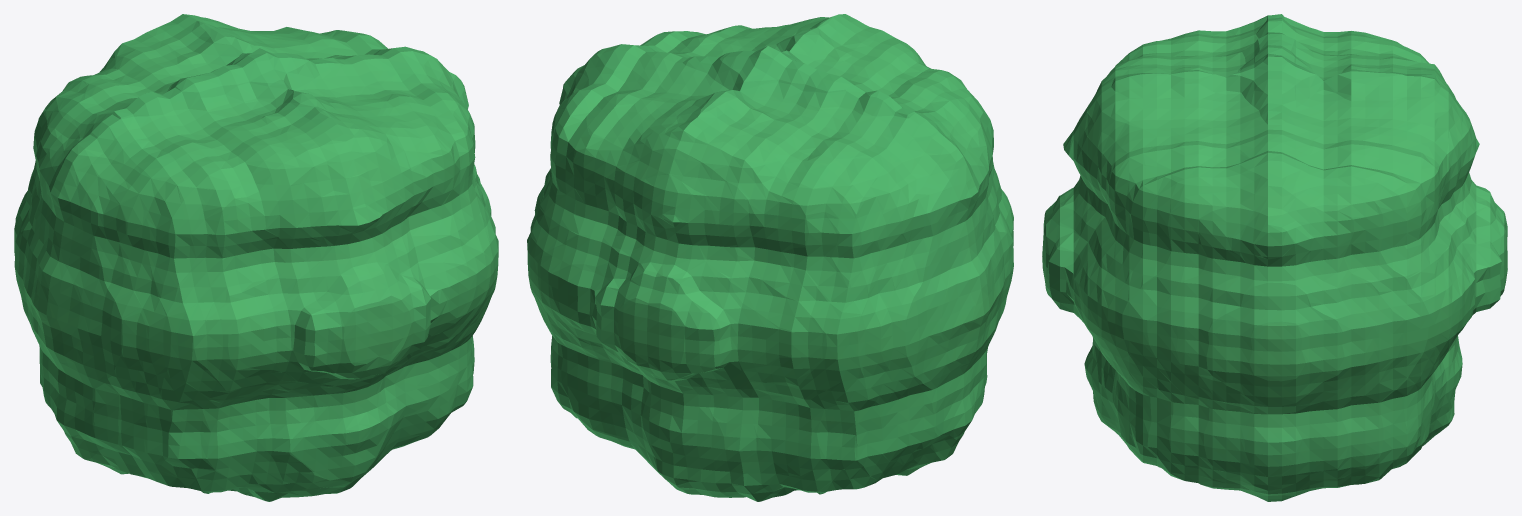
3 renders of one model, left to right at view 1: azimuth 30°, elevation 25°; view 2: azimuth 150°, elevation 25°; view 3: azimuth 270°, elevation 25°, orthographic.
Visible parts, largest first — view 1: geometry_0; view 2: geometry_0; view 3: geometry_0.
Boxes of the visible parts, x1=… form: geometry_0: x1=14, y1=14, x2=498, y2=501; geometry_0: x1=527, y1=14, x2=1013, y2=501; geometry_0: x1=1042, y1=14, x2=1507, y2=501.
Size of the model in its own units: 1.51 by 1.45 by 1.43.
